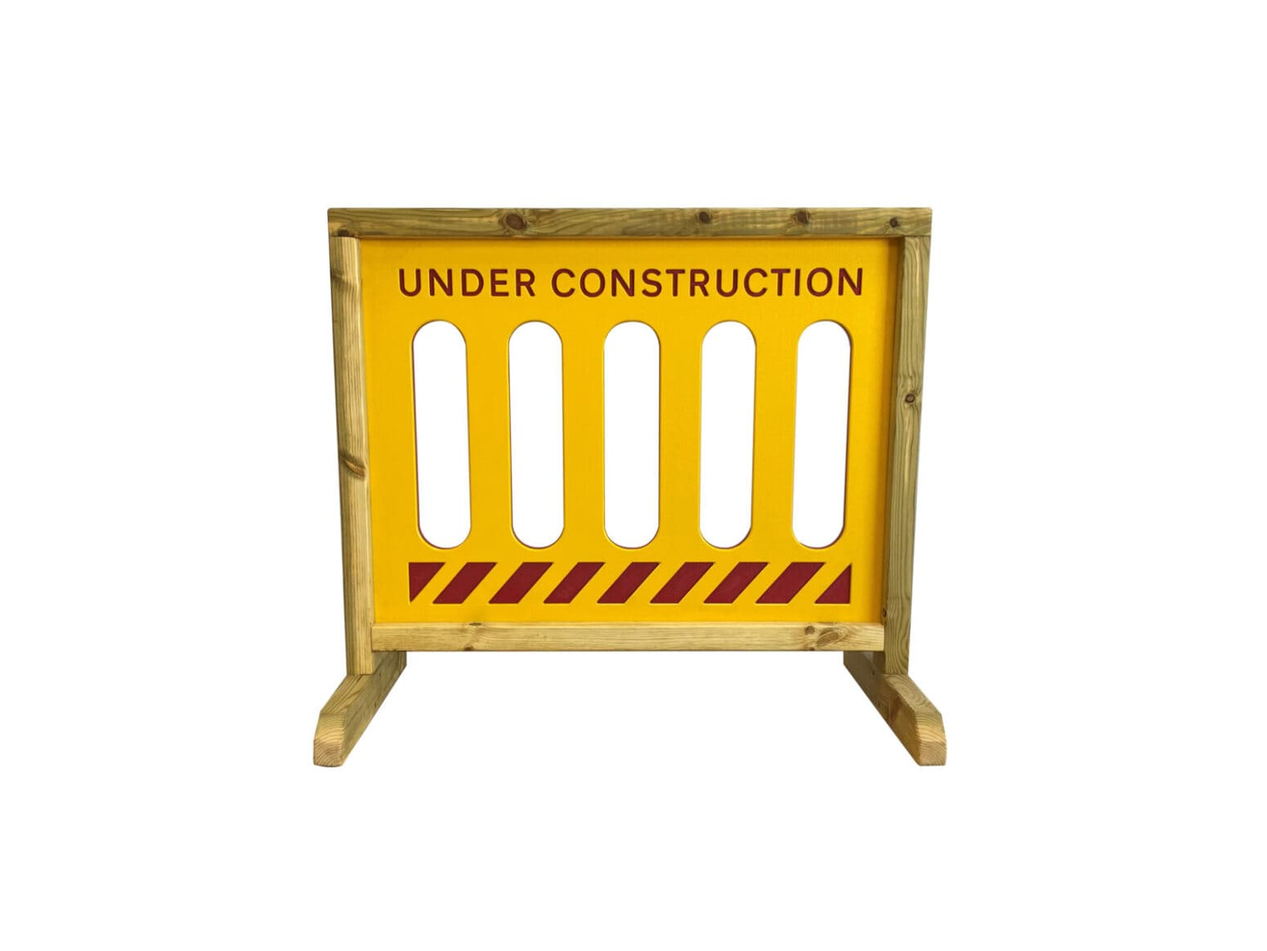Barrier: (226, 181, 1010, 801)
